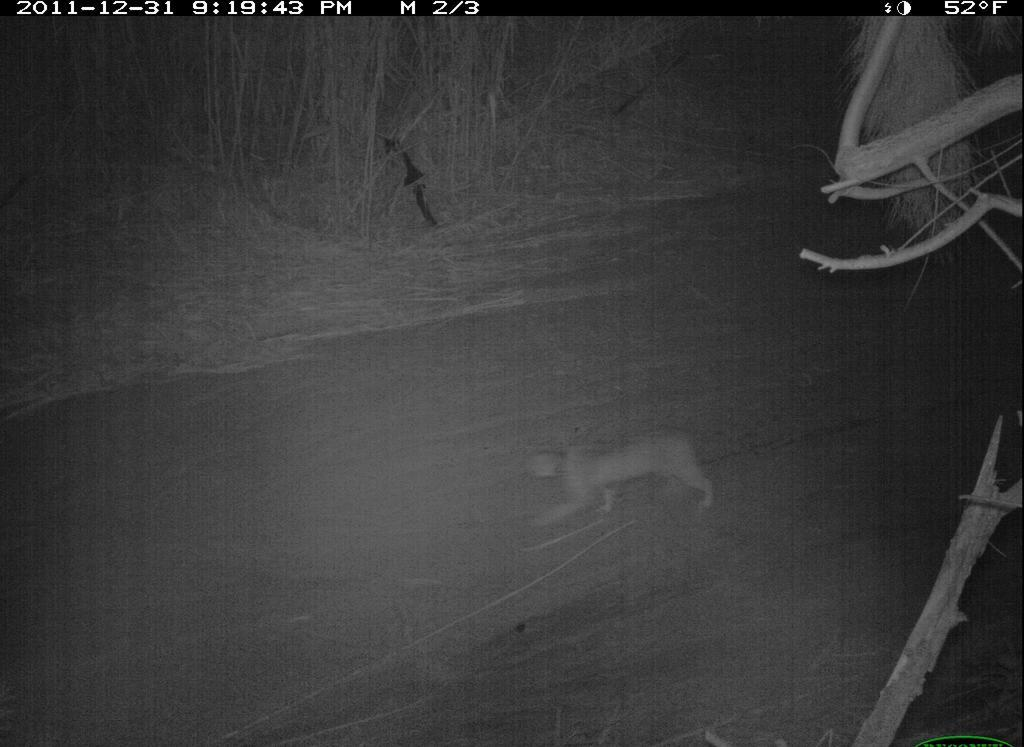bobcat: (519, 423, 722, 533)
